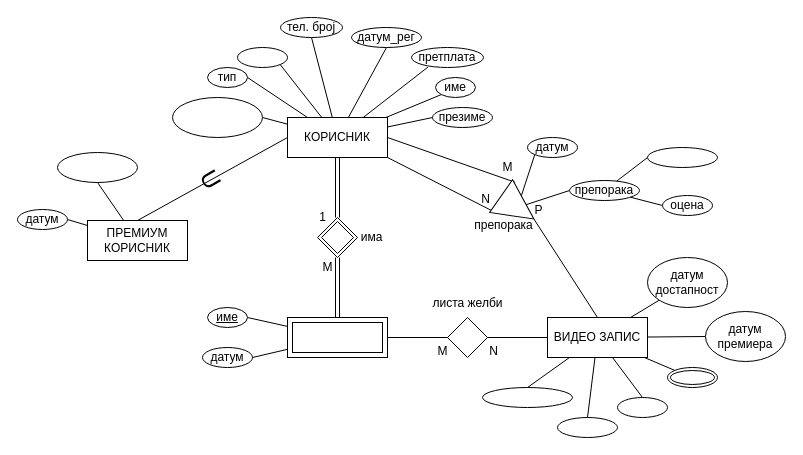
Image size: 803x455. Some labels were removed from this diagram. The centre of each missing label's shape, as x and y in pixels:
e-mail: [262,57]
времетраење: [527,397]
жанр: [692,377]
коментар: [682,157]
корисничко име: [217,117]
наслов: [587,427]
ПРОФИЛ: [337,337]
процент за попуст: [97,167]
јазик: [642,407]
